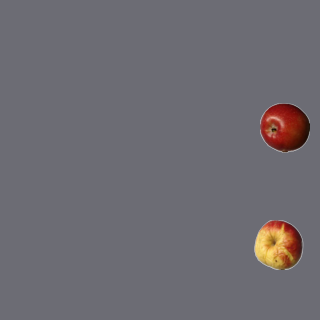Apple Braeburn: (259, 102, 309, 152)
Apple Red Yellow 1: (253, 219, 303, 269)
